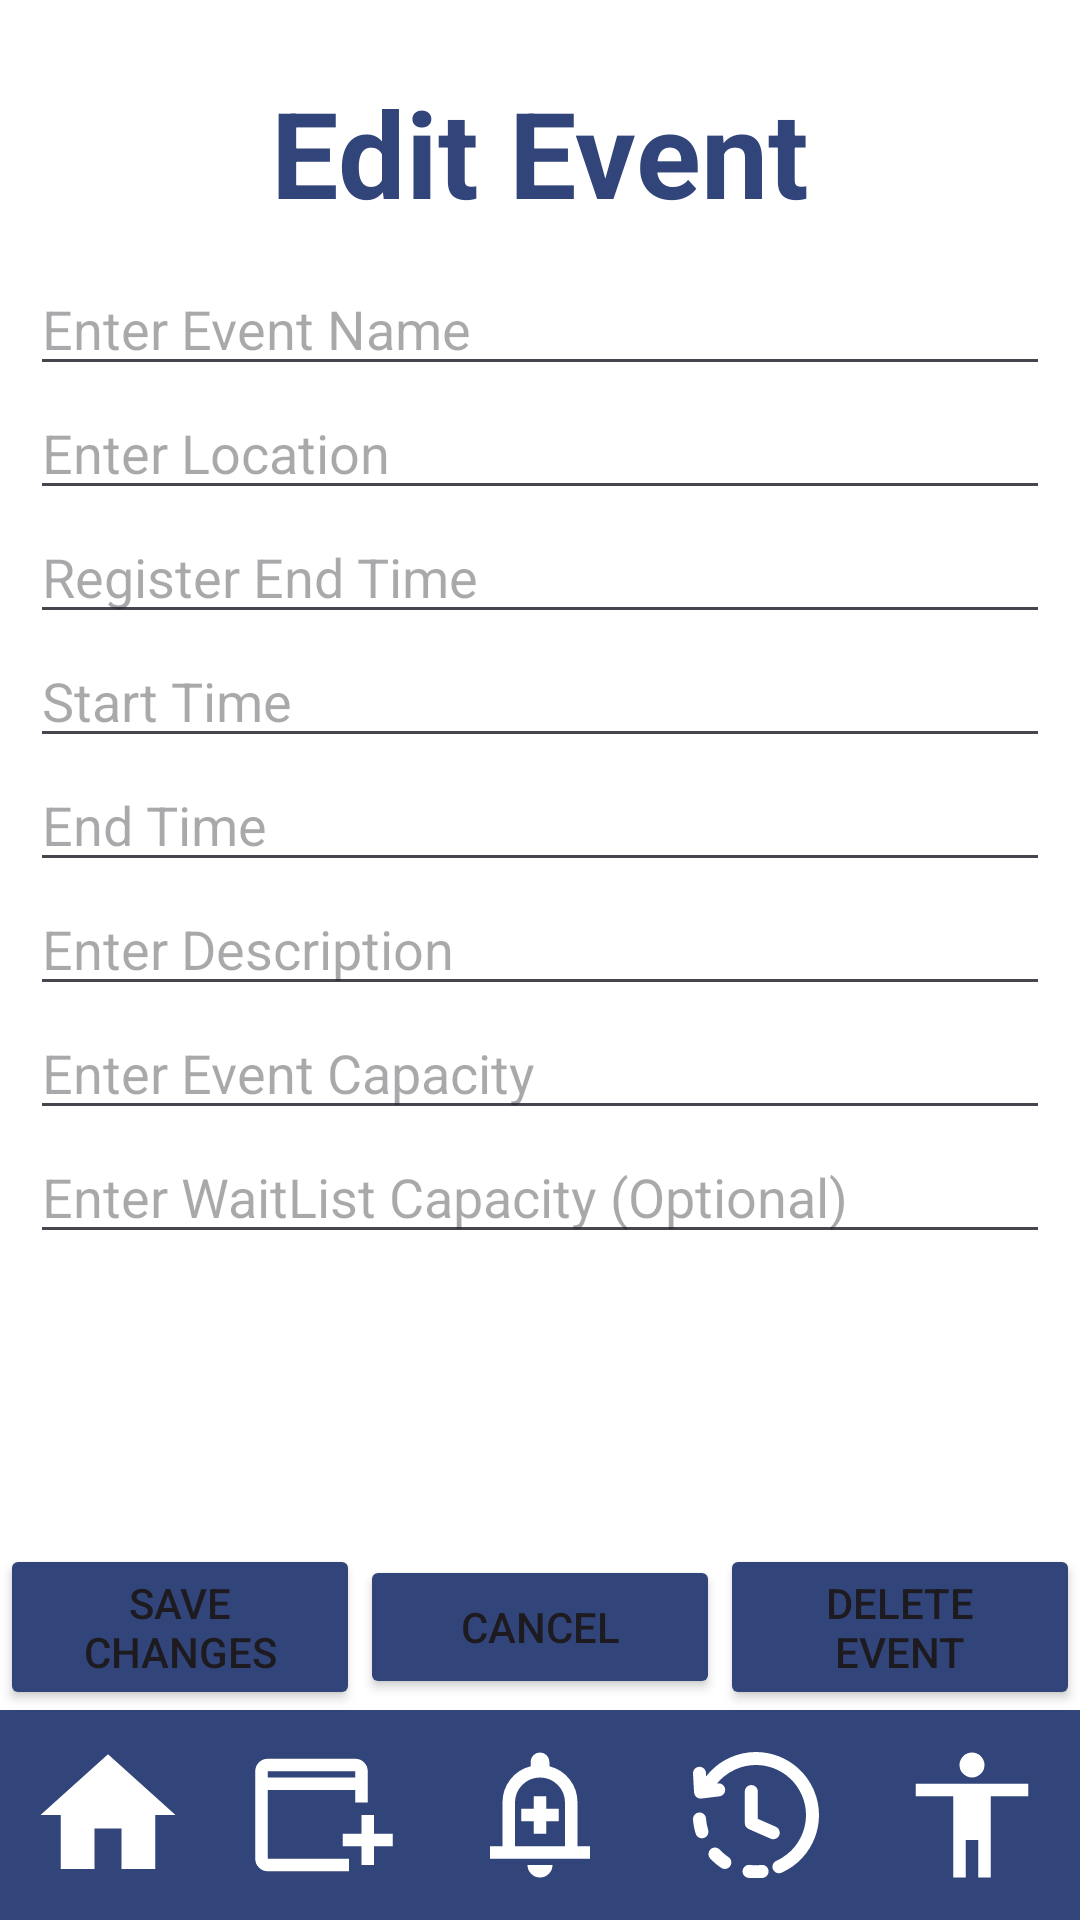

Screen size 1080*1920. Icon name, then its box in pixels as bbox=(x1, y1, x2, y2):
event: bbox=(255, 1758, 393, 1872)
history: bbox=(693, 1752, 819, 1878)
home: bbox=(41, 1754, 175, 1869)
notification: bbox=(490, 1752, 590, 1878)
profile: bbox=(915, 1752, 1029, 1878)
